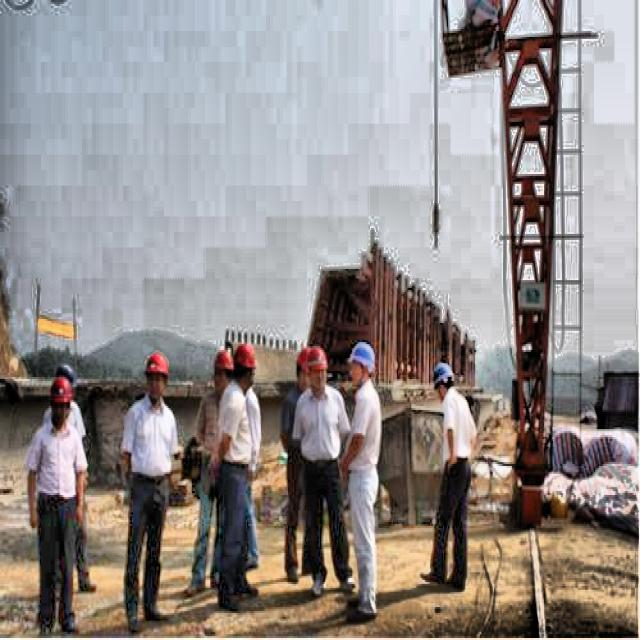helmet: (343, 337, 379, 392), (231, 335, 261, 400), (138, 346, 169, 406), (48, 375, 76, 427), (428, 356, 456, 400), (211, 348, 236, 394), (306, 344, 328, 395), (293, 346, 309, 391)
